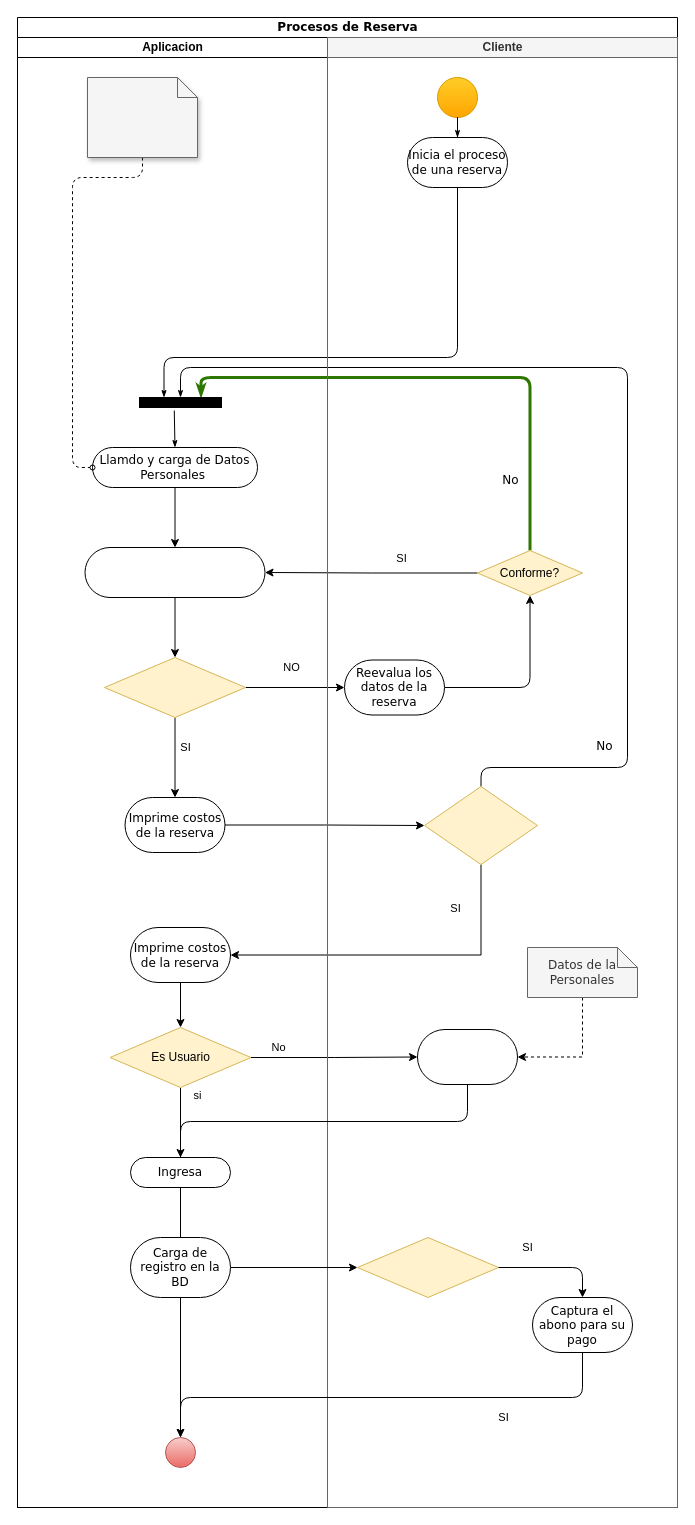
This 695x1525 diagram has some shape labels left out. Each missing label, with the centre of its shape:
"Captura datos del Usuario" goes at (x=467, y=1056).
"Conforme con el costo?" goes at (x=481, y=825).
"Datos de la Reserva" goes at (x=143, y=118).
"Desea Dejar un abono?" goes at (x=427, y=1267).
"Disponivildiad para la reserva?" goes at (x=175, y=687).
"Fin" goes at (x=180, y=1452).
"Rango de fechas y cantidades de Personas" goes at (x=174, y=572).
